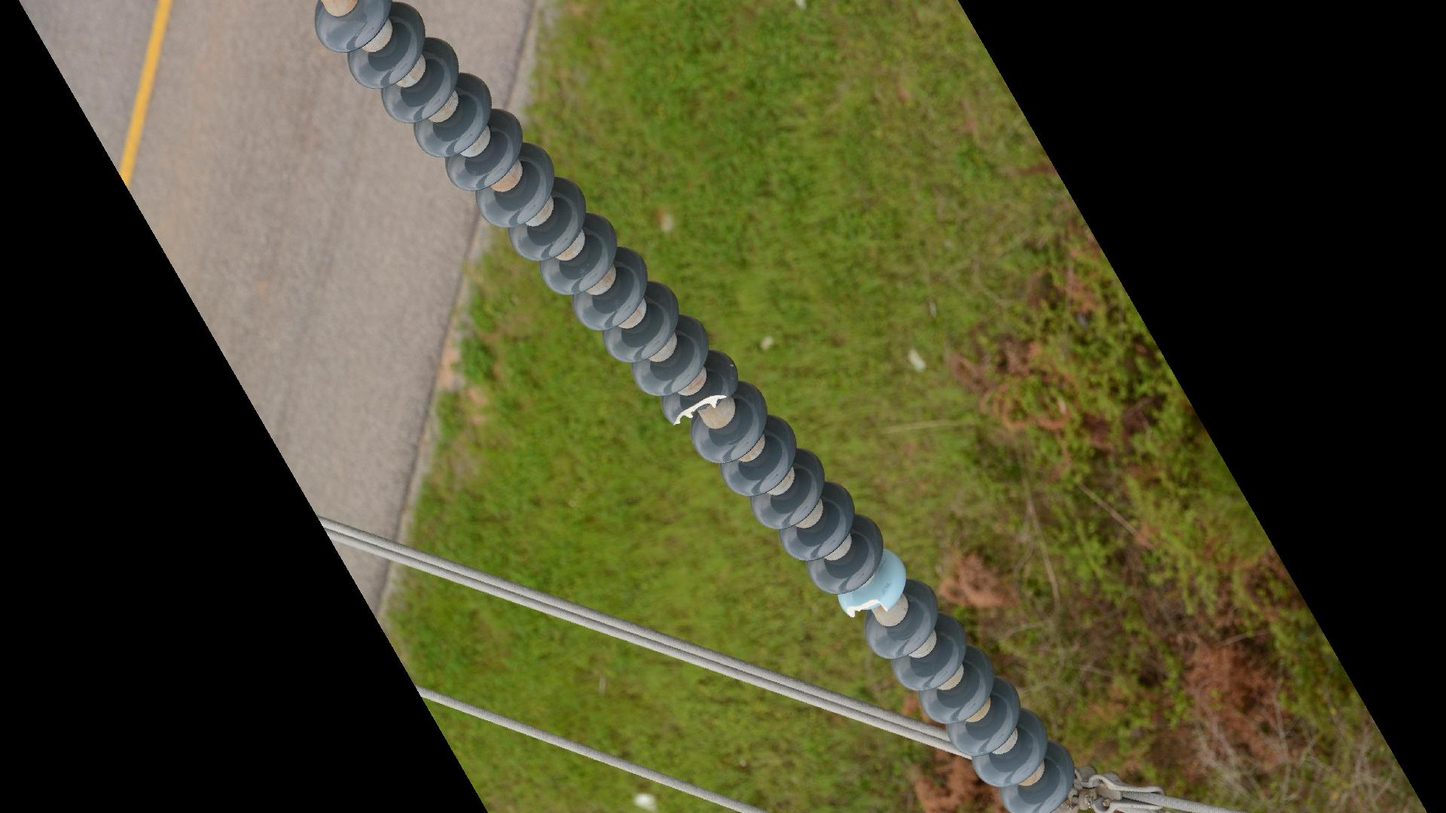insulator: (311, 1, 1081, 813)
insulator_breakage: (663, 382, 735, 431), (843, 590, 893, 621)
